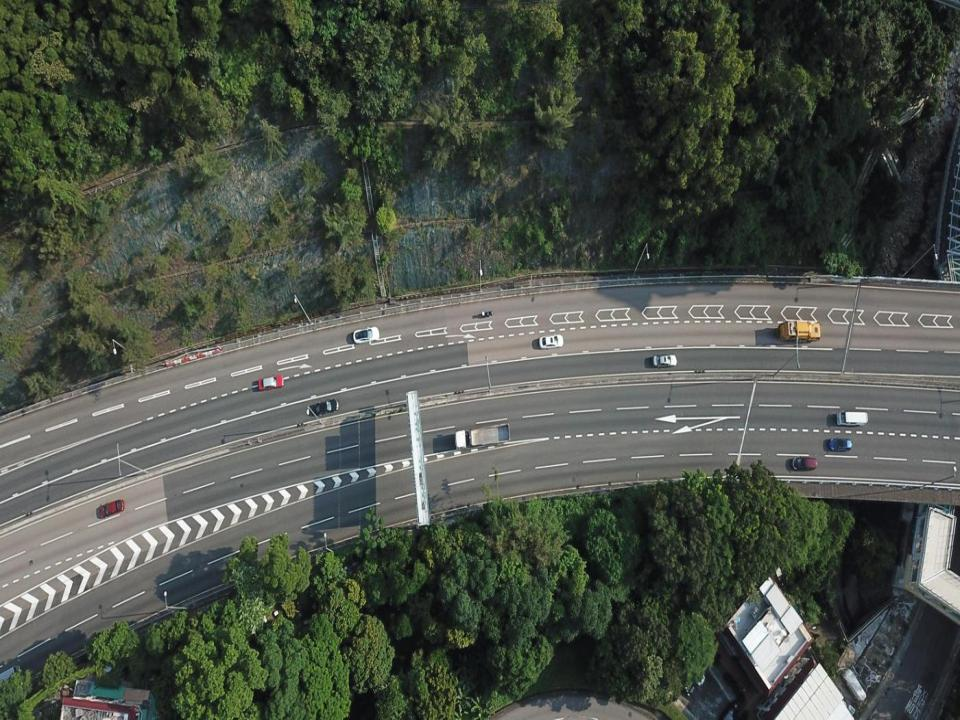car: (840, 667, 867, 704), (352, 326, 380, 344), (99, 499, 125, 518), (257, 373, 284, 391), (313, 398, 339, 416), (538, 333, 564, 350), (717, 700, 741, 718), (791, 455, 817, 471), (828, 436, 852, 452), (652, 353, 677, 368)
truck: (454, 421, 511, 450), (777, 319, 822, 343)
van: (836, 409, 868, 428)
